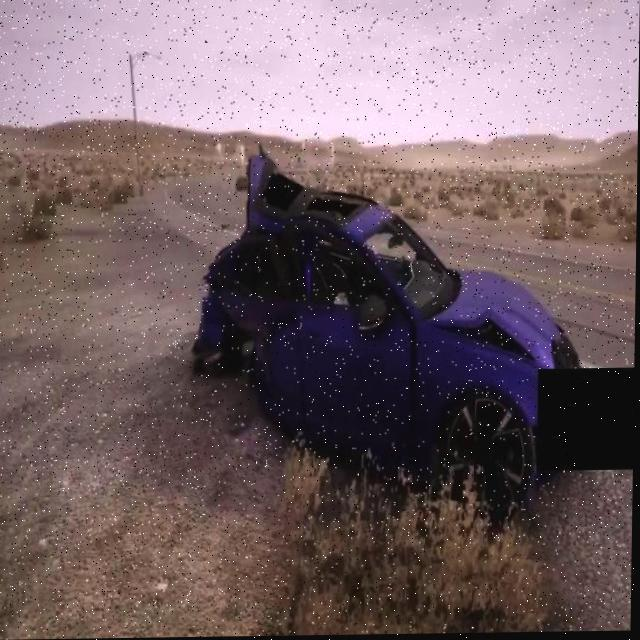single accident: (211, 141, 563, 431)
